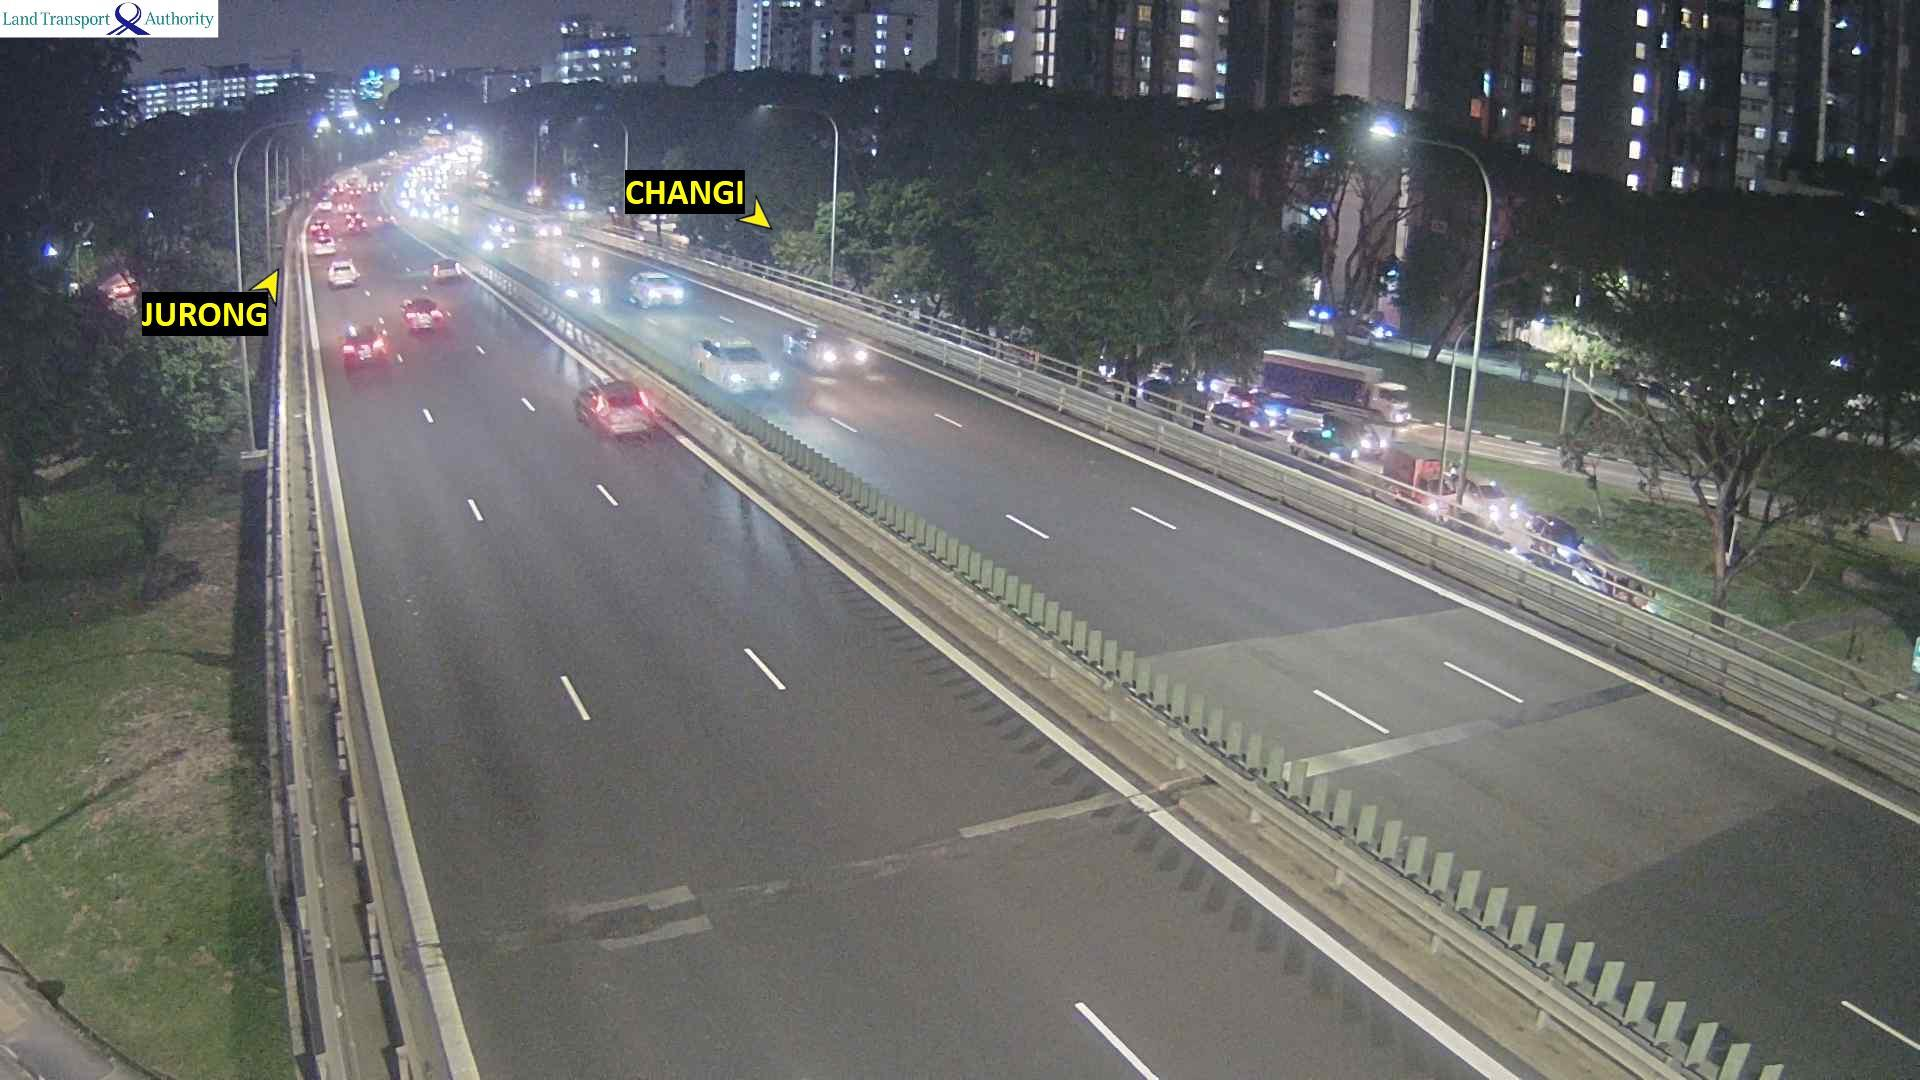incoming: (709, 343, 783, 392), (812, 334, 874, 369), (638, 280, 692, 307), (566, 239, 609, 273), (562, 278, 607, 306), (488, 214, 524, 239), (535, 214, 564, 239), (442, 200, 463, 219)
